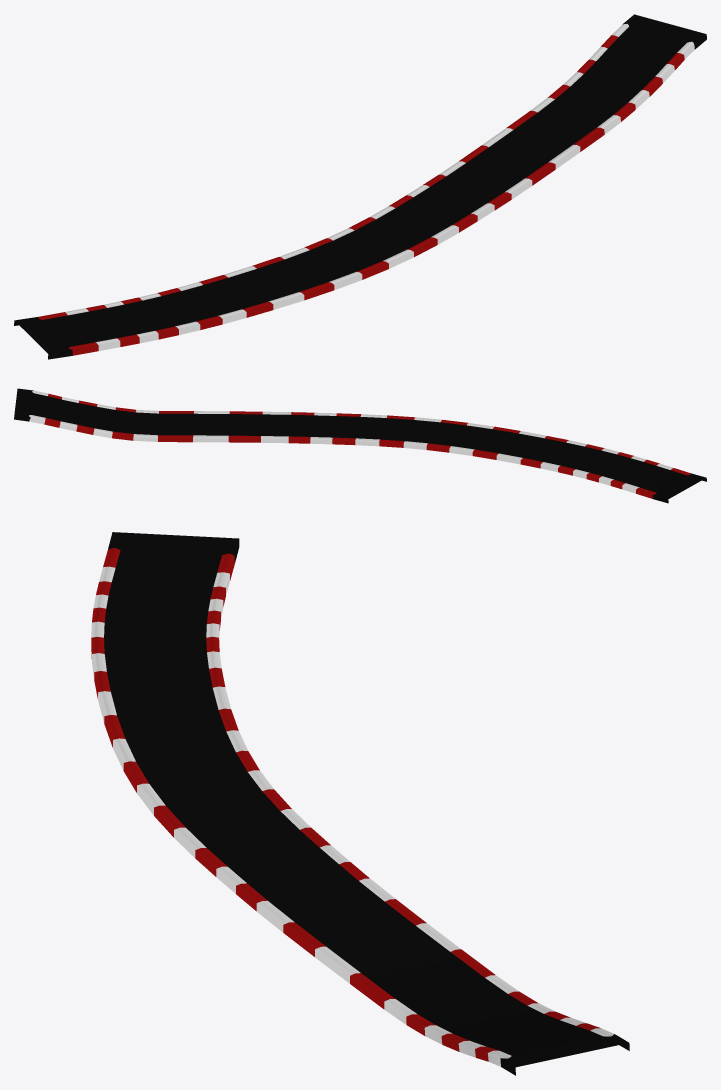
Rendered from track - cave jump.FBX.
The picture shows the model from 3 angles, top to bottom: view 1: azimuth 30°, elevation 25°; view 2: azimuth 150°, elevation 25°; view 3: azimuth 270°, elevation 25°; orthographic projection. The views are drawn at different scales.
Visible parts, largest first — view 1: into cave jump; view 2: into cave jump; view 3: into cave jump.
Boxes of the visible parts, x1,y1,x2,y2 form: into cave jump: (14,14,706,359); into cave jump: (14,388,706,503); into cave jump: (91,532,629,1075).
Size of the model in its own units: 298 by 11.68 by 118.
